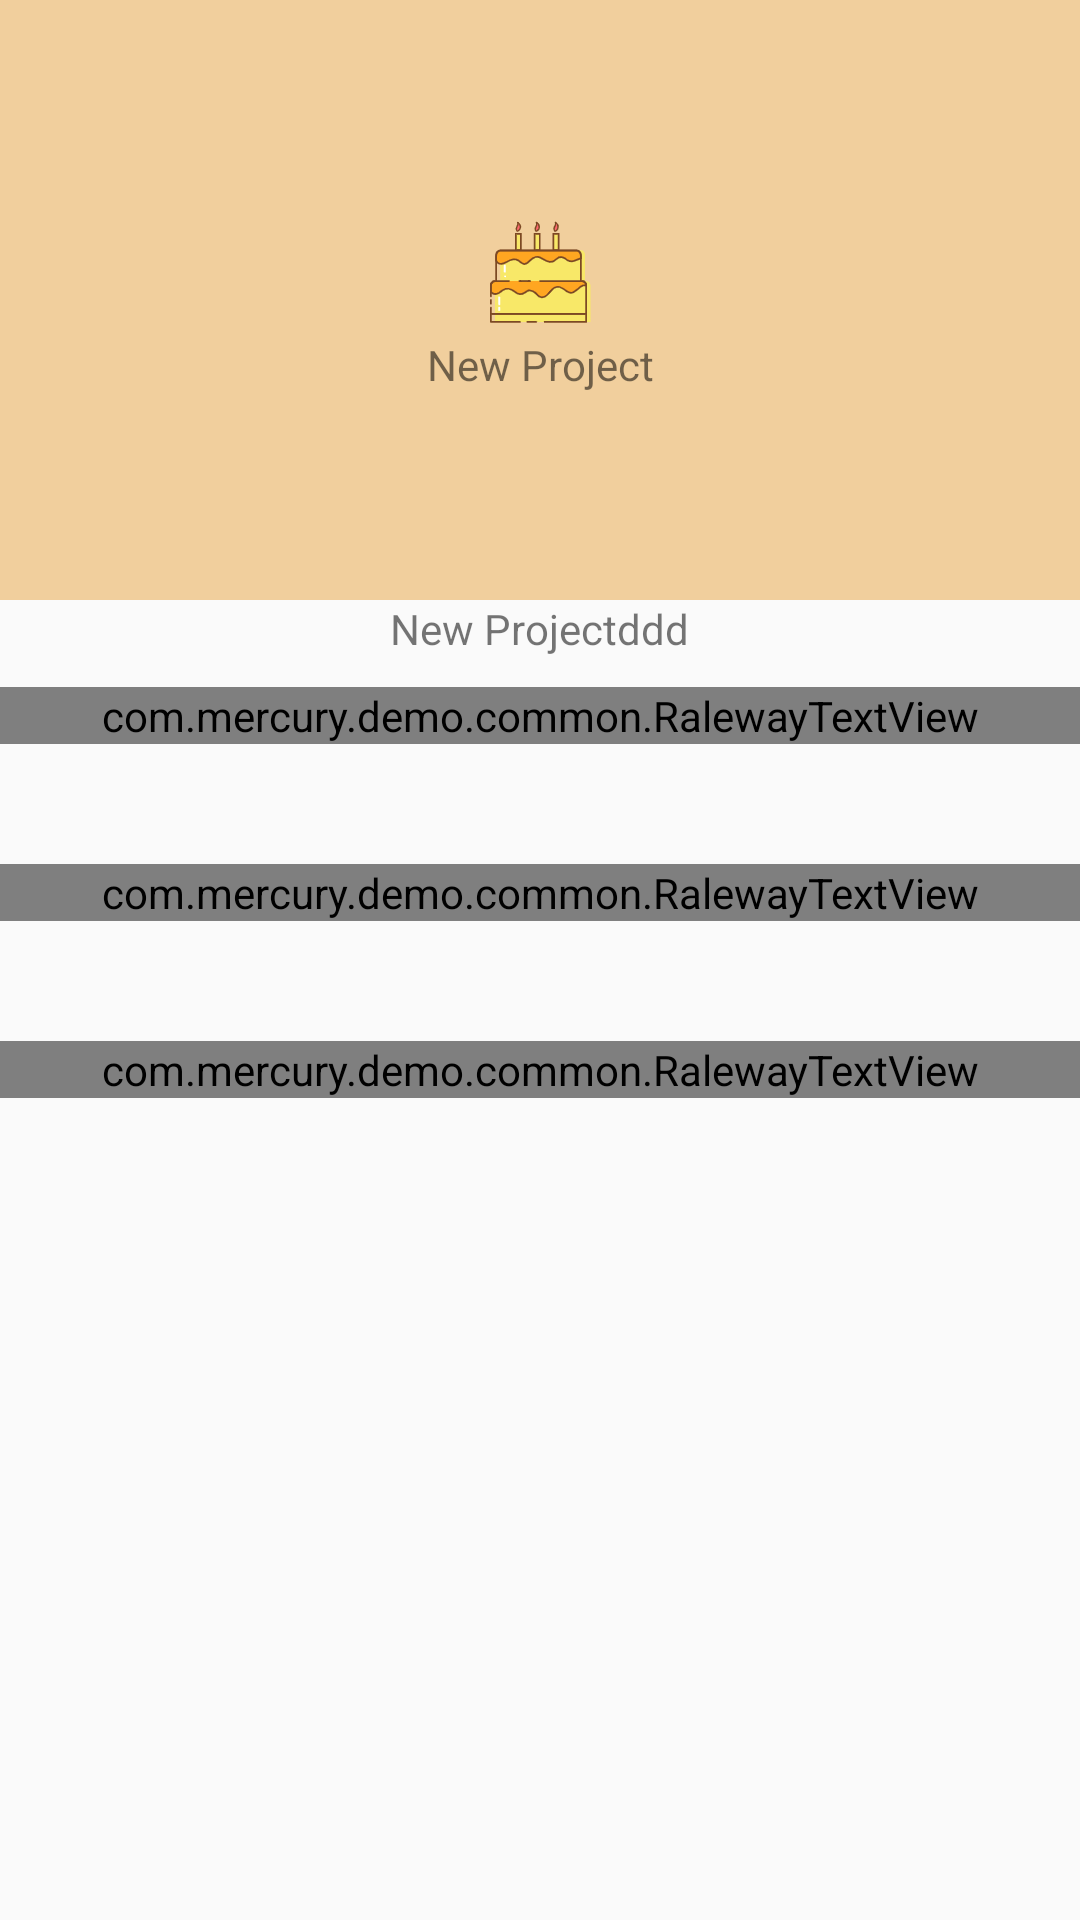

Icons on this 1080x1920 Android screen, each with its box as (x1, y1, x2, y2):
cake: (490, 221, 591, 323)
